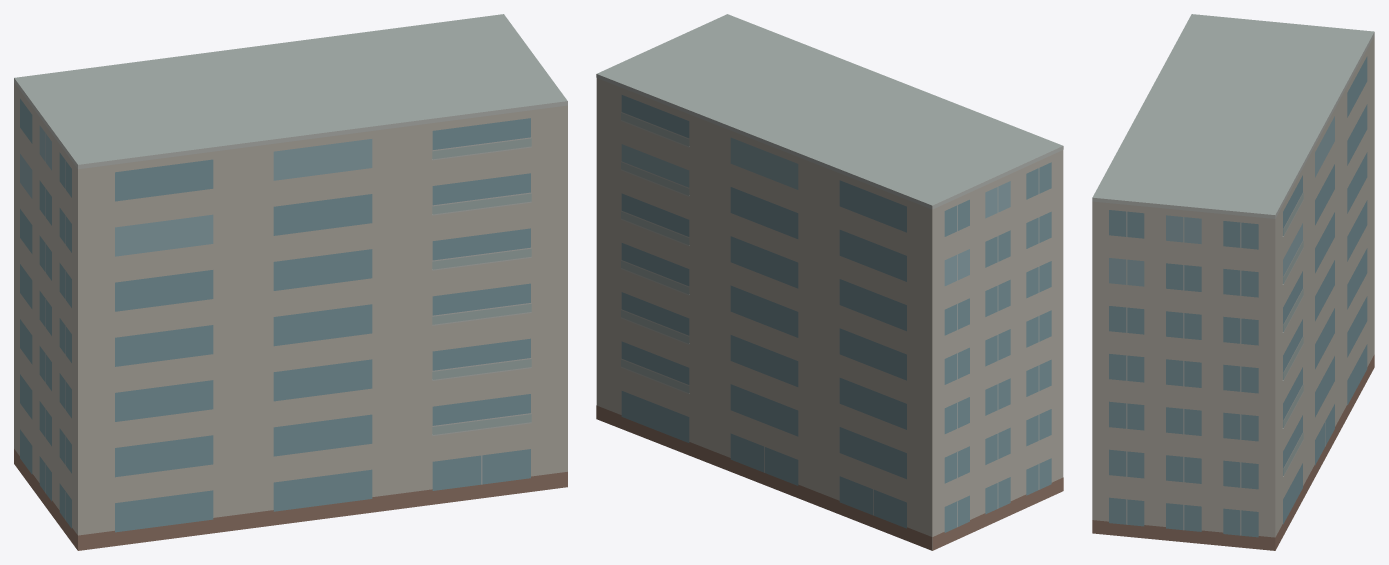
The model's file is survey-upis-32702780.glb.
3 renders of one model, left to right at view 1: azimuth 30°, elevation 25°; view 2: azimuth 150°, elevation 25°; view 3: azimuth 270°, elevation 25°, orthographic. The views are drawn at different scales.
Visible parts, largest first — view 1: survey-upis-32702780.tmp; view 2: survey-upis-32702780.tmp; view 3: survey-upis-32702780.tmp.
Part boxes in pixels (left/top/right/bottom): survey-upis-32702780.tmp: left=14, top=14, right=567, bottom=550; survey-upis-32702780.tmp: left=596, top=14, right=1063, bottom=550; survey-upis-32702780.tmp: left=1092, top=14, right=1374, bottom=550.
Size of the model in its own units: 27.44 by 21.35 by 16.28.
